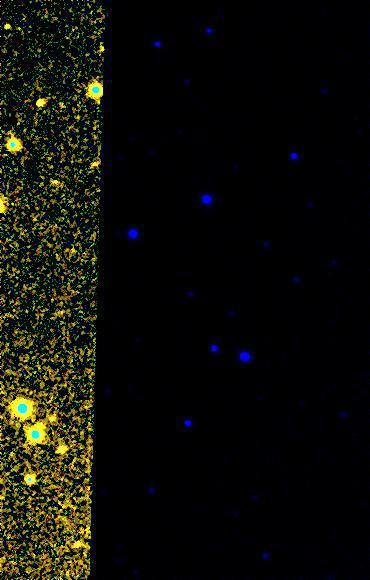star: (0, 189, 17, 219)
